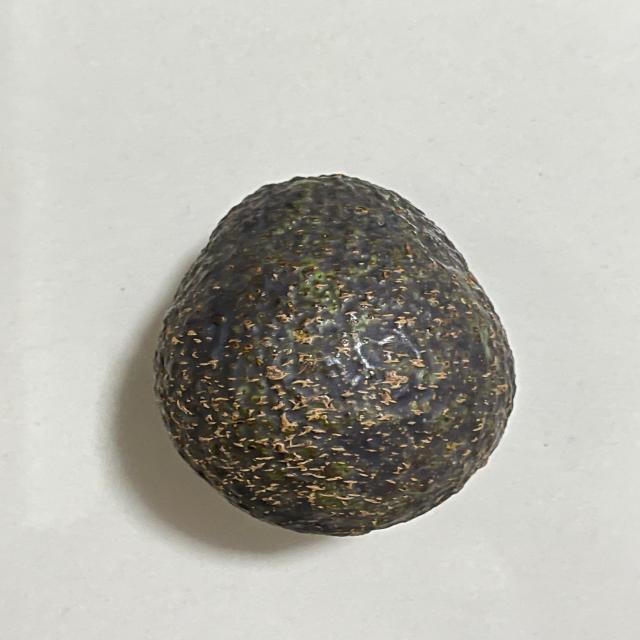Level2: (144, 170, 528, 543)
